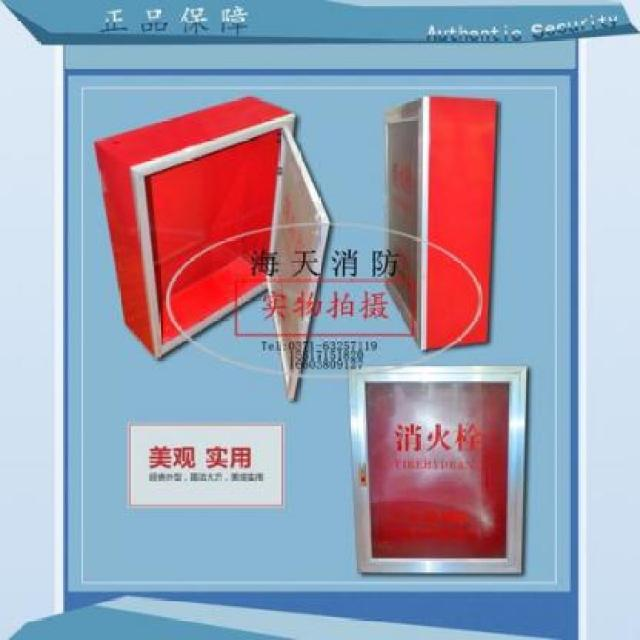firehydrant: (90, 91, 338, 406), (344, 360, 536, 583), (369, 91, 503, 355)
